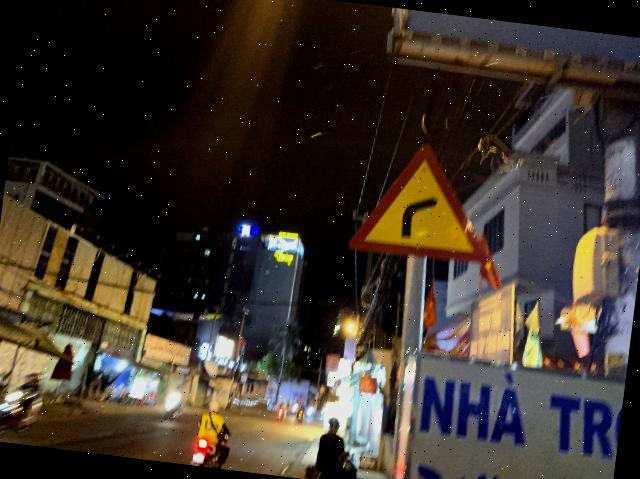cho-ngoat-nguy-hiem-ben-phai: (347, 134, 502, 270)
